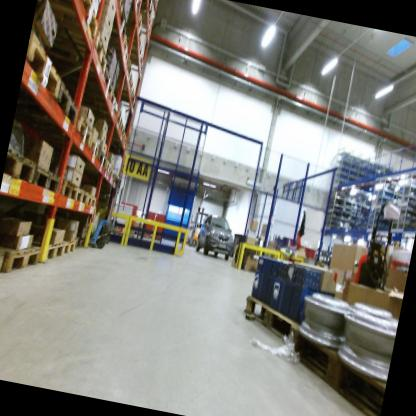forklift: (188, 200, 214, 250)
pallet: (224, 284, 397, 416), (58, 22, 116, 84), (21, 25, 70, 98), (33, 0, 107, 38), (0, 237, 43, 288), (1, 142, 42, 191), (75, 94, 130, 129), (79, 87, 125, 122), (31, 158, 67, 198), (52, 76, 83, 122), (99, 28, 133, 66), (96, 68, 123, 112), (126, 0, 154, 38), (33, 236, 65, 267), (71, 111, 96, 150), (124, 12, 148, 42), (59, 172, 82, 201), (114, 3, 132, 40), (98, 116, 126, 138), (53, 237, 76, 262), (74, 182, 91, 211), (119, 54, 136, 80), (124, 52, 146, 72), (122, 73, 136, 101), (0, 244, 9, 286), (127, 39, 145, 59), (106, 131, 129, 146), (83, 191, 98, 211), (94, 146, 108, 167), (86, 139, 100, 159), (101, 157, 114, 177), (126, 92, 139, 111), (75, 233, 88, 251), (104, 0, 124, 11), (106, 162, 116, 181), (111, 171, 119, 186), (113, 181, 121, 192), (115, 178, 123, 189), (117, 171, 125, 181), (142, 231, 151, 239), (131, 230, 143, 236), (123, 143, 128, 155), (150, 236, 162, 241), (113, 223, 121, 230), (111, 229, 120, 235), (125, 137, 130, 146), (119, 169, 125, 176), (122, 155, 126, 165)
pallet_truck: (89, 172, 121, 254), (99, 173, 131, 241)
